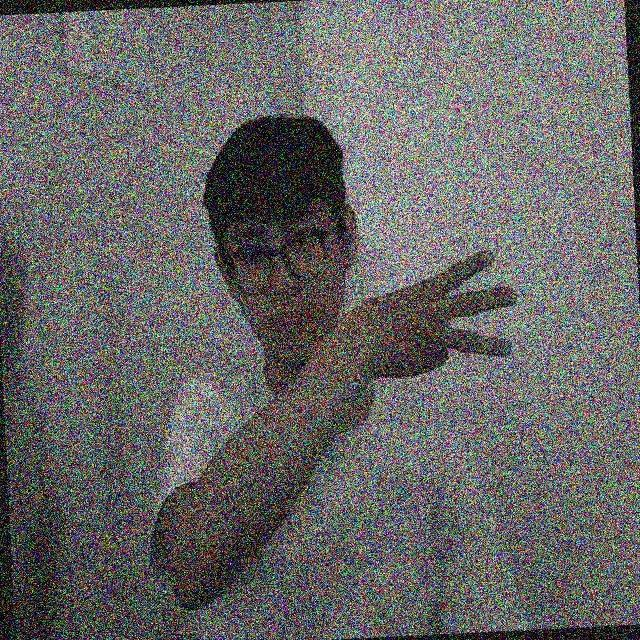E: (335, 229, 530, 400)
